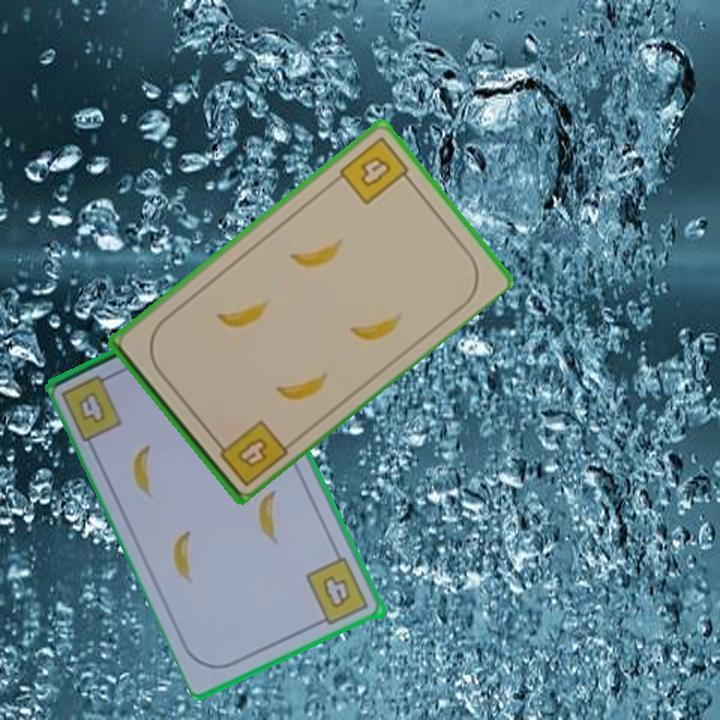4b: (335, 132, 416, 208), (209, 415, 290, 489), (303, 554, 372, 629), (75, 388, 109, 427)
